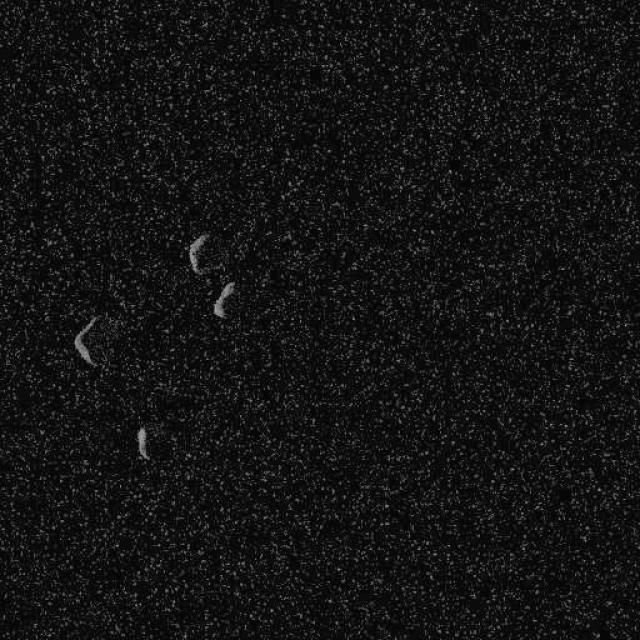D2: (72, 312, 101, 368), (186, 231, 212, 275), (211, 280, 235, 319), (134, 425, 150, 460)
